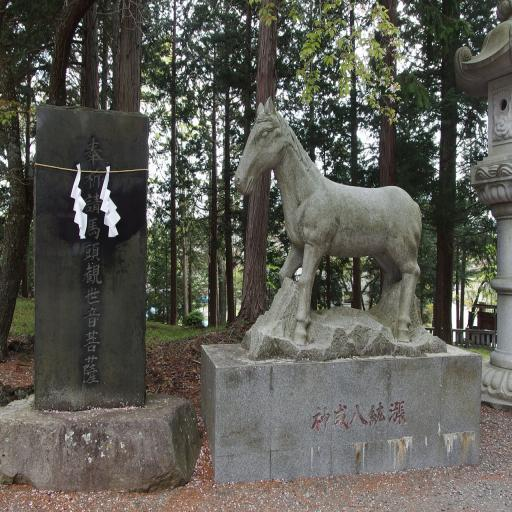Horse: (233, 95, 423, 347)
